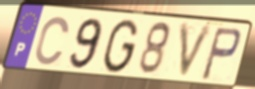8: (136, 21, 172, 79)
9: (67, 17, 105, 72)
C: (33, 15, 72, 67)
G: (100, 18, 140, 76)
P: (199, 26, 243, 83)
V: (176, 22, 216, 82)
